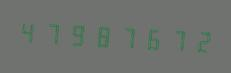eight: (89, 18, 112, 52)
four: (17, 14, 40, 49)
nine: (65, 17, 88, 51)
seven: (113, 19, 136, 54), (41, 16, 64, 50), (161, 22, 184, 56)
six: (137, 21, 160, 55)
two: (185, 23, 208, 57)
